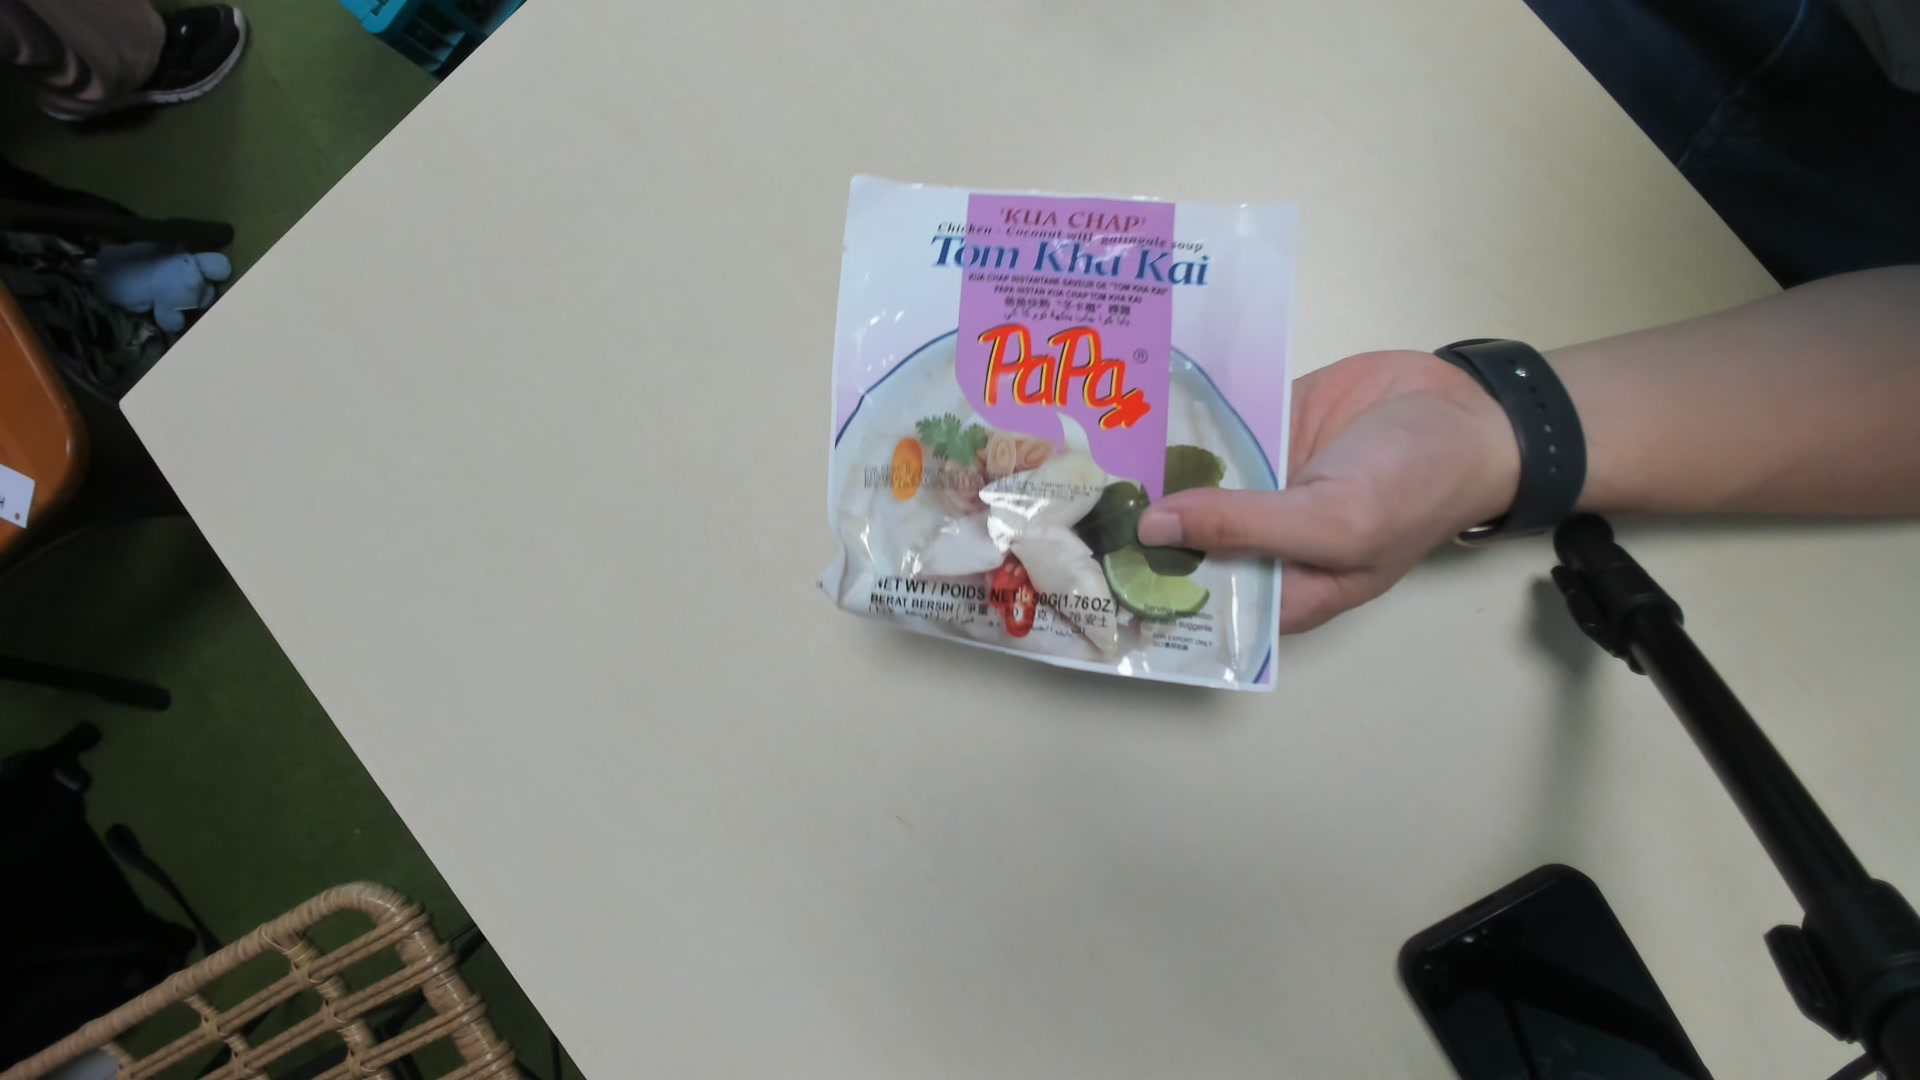OtherSauceDressing_0-99g_NonHalal_NonHealthy: (818, 177, 1296, 702)
